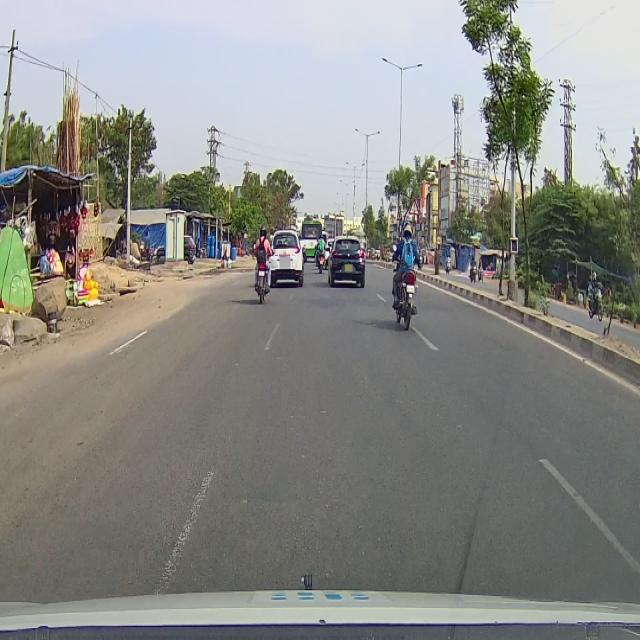car ahead at: (329, 234, 366, 286), (273, 229, 304, 288)
